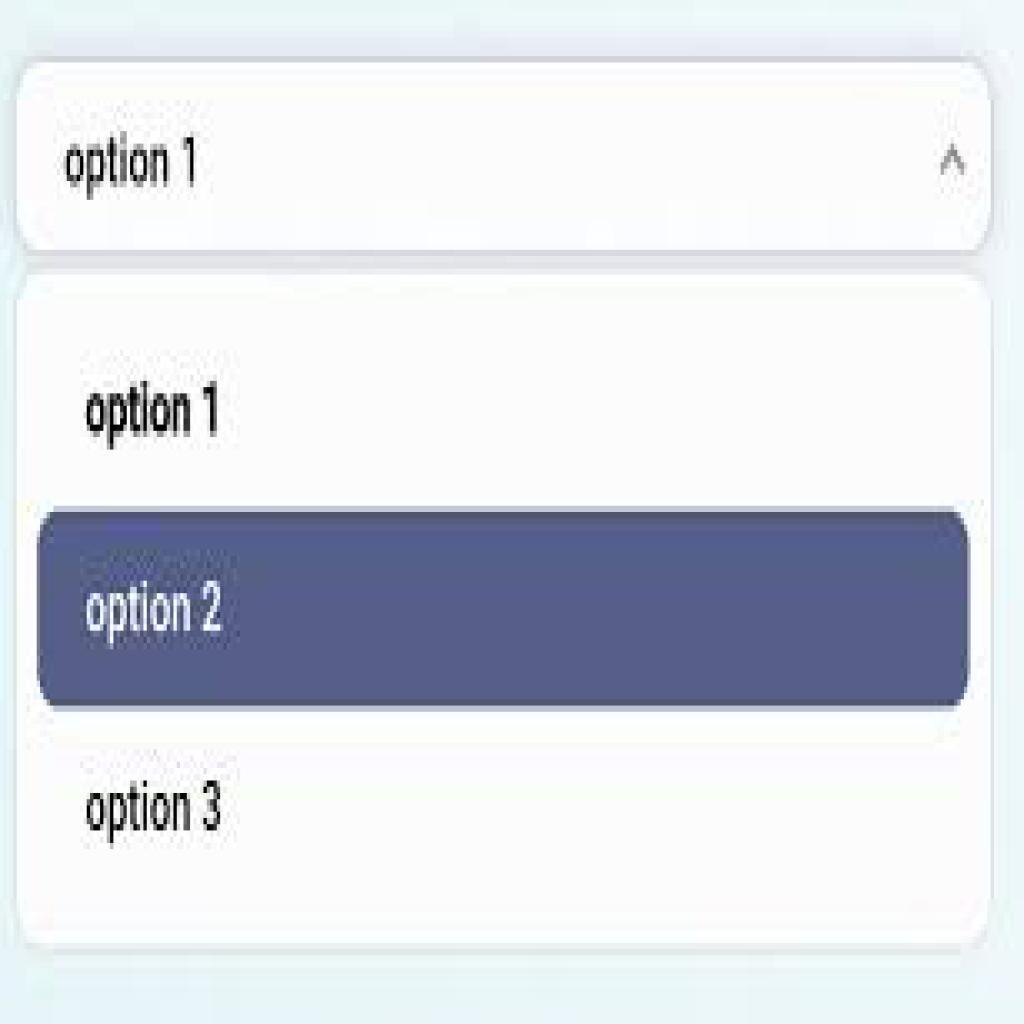dropdown: (18, 56, 993, 255)
